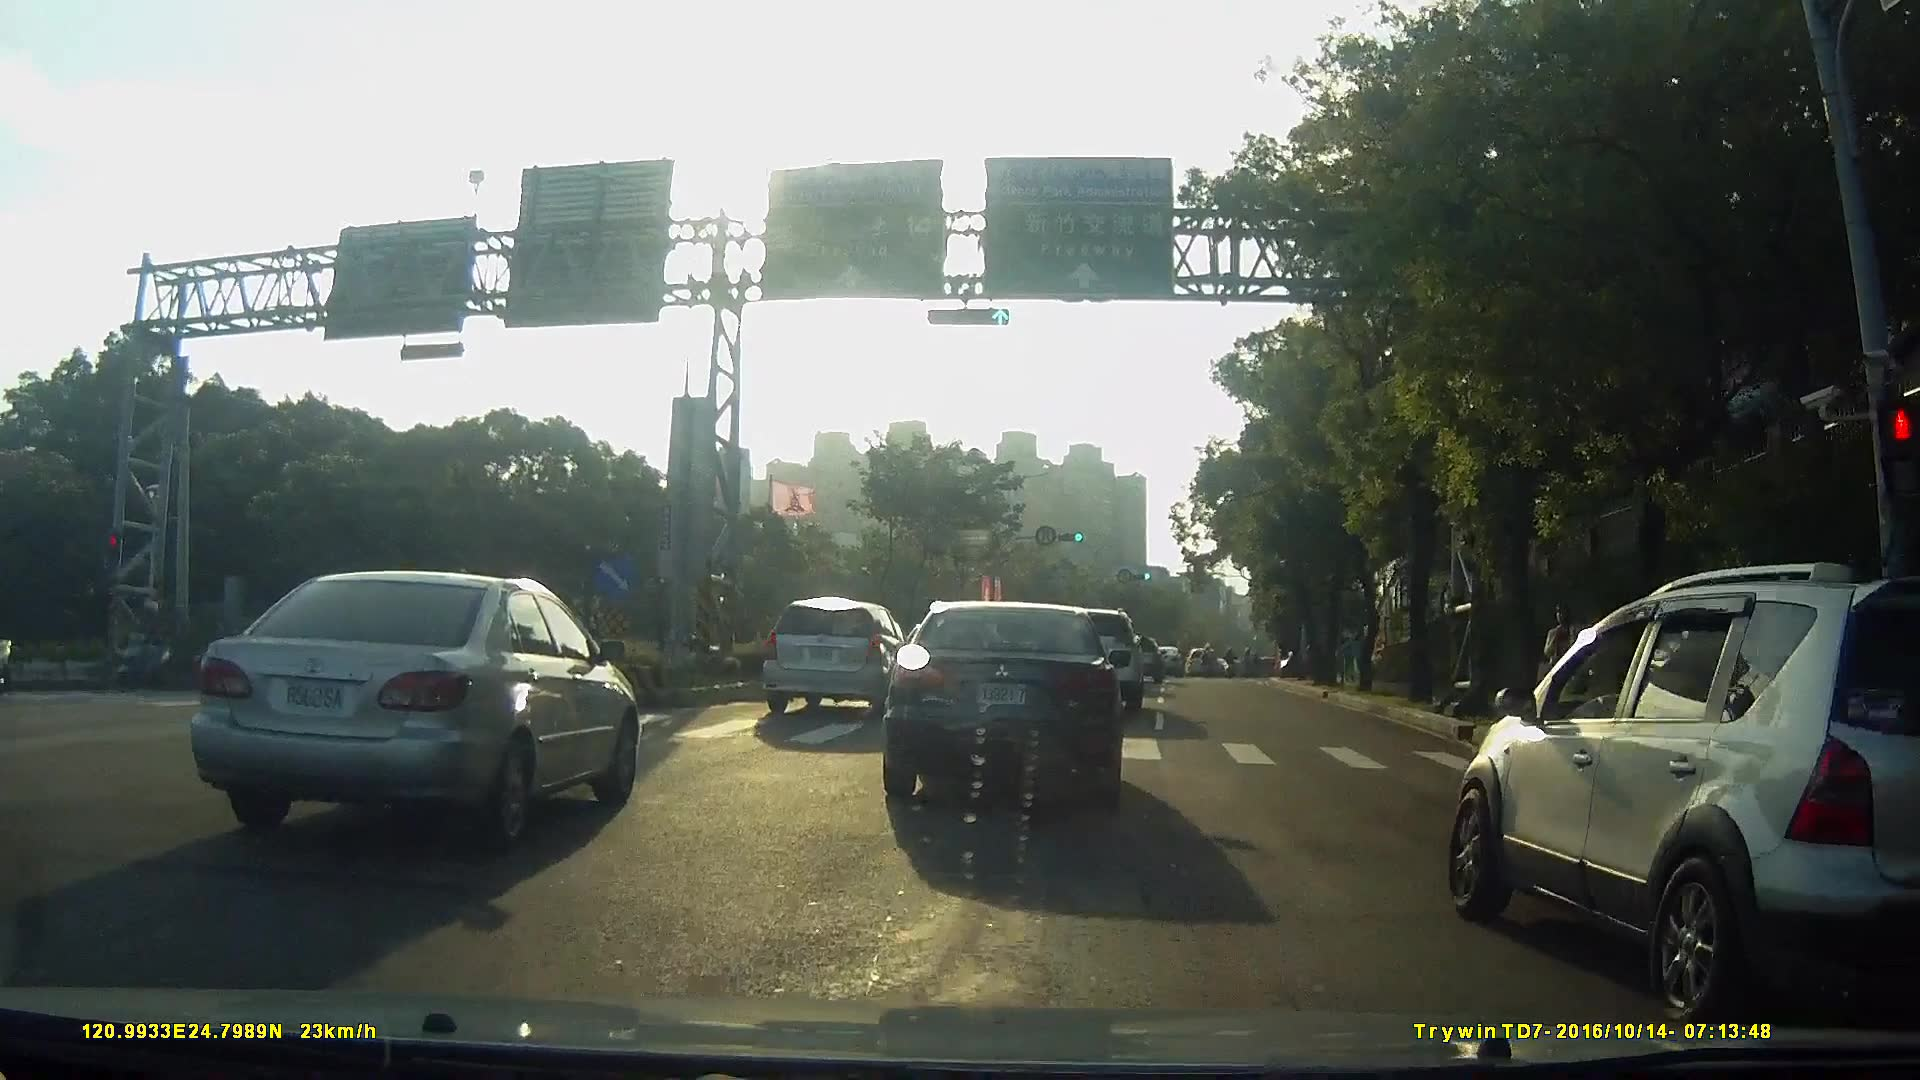rider: (98, 599, 162, 693), (1, 587, 21, 701)
vehicle: (1428, 557, 1920, 1023), (170, 562, 657, 854), (868, 599, 1143, 814), (750, 595, 904, 718), (1143, 642, 1177, 675), (1175, 641, 1207, 674)
